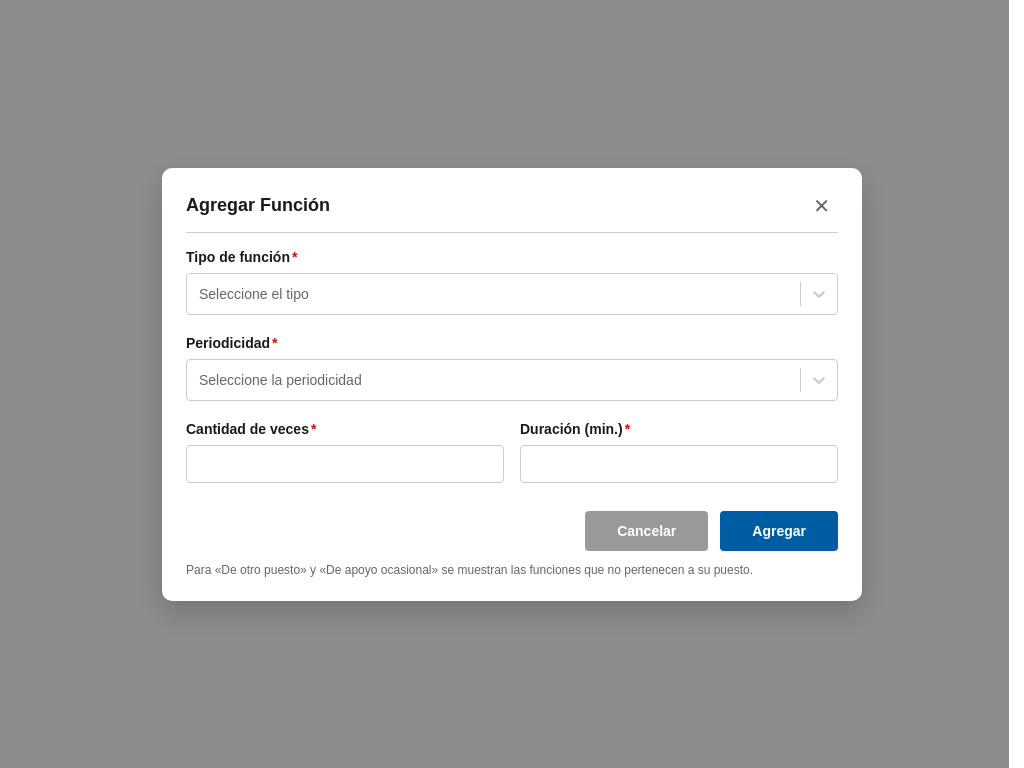
Test case: DeclarationActivityModal › muestra error de validación si se intenta agregar sin seleccionar tipo
Click the button "Agregar".
click(779, 530)  # box [720, 510, 838, 550]
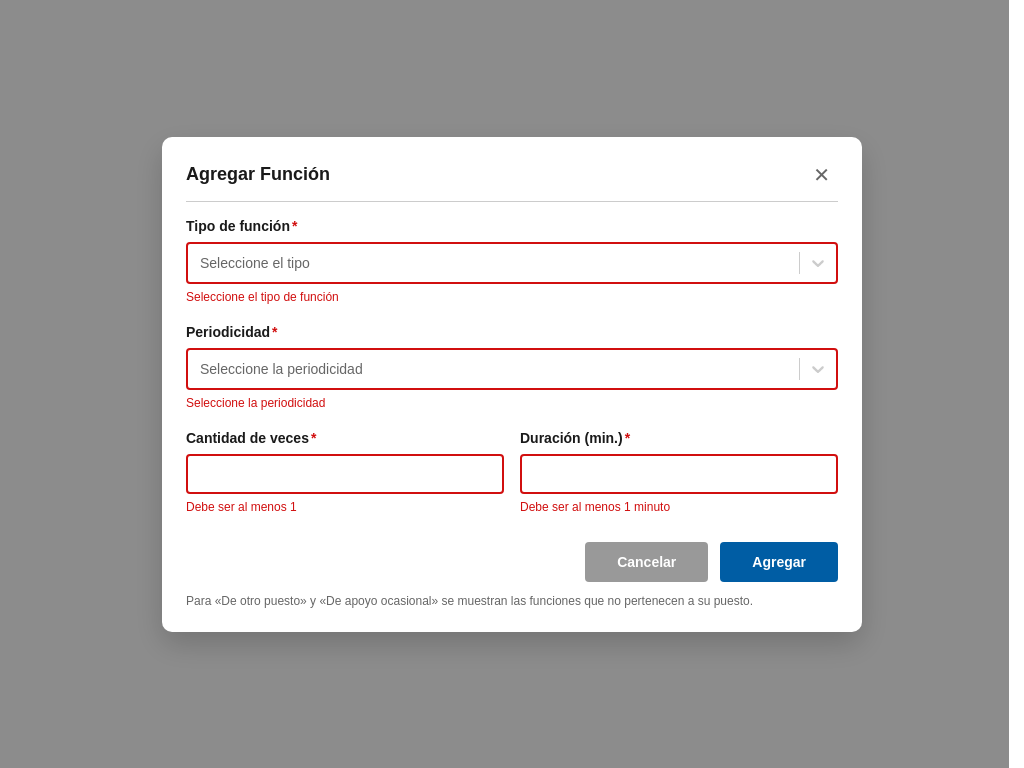
expect the text "Seleccione el tipo de función" is shown: met, box [186, 290, 339, 304]
